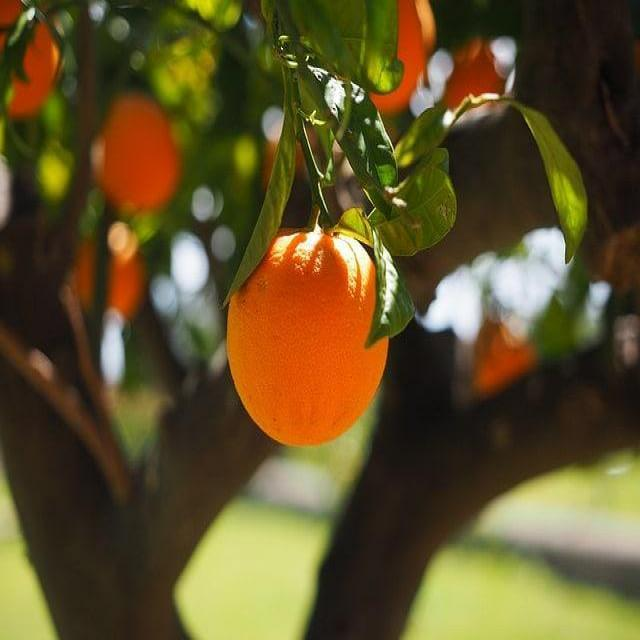Jeruk Sudah Matang: (225, 208, 416, 449), (93, 108, 180, 213)
